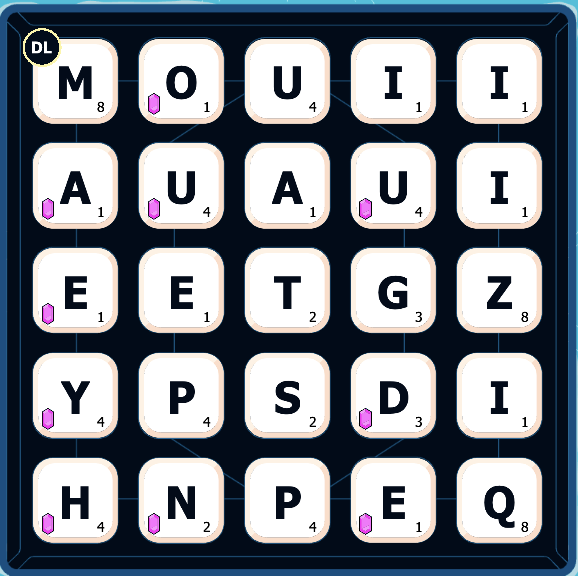A: (262, 161, 311, 212), (53, 157, 95, 211)
D: (374, 371, 411, 418)
DOUBLE: (478, 268, 517, 313)
F: (53, 267, 94, 318), (165, 270, 201, 315), (377, 481, 413, 525)
H: (371, 266, 413, 316)
I: (54, 475, 97, 530)
J: (479, 367, 518, 421), (374, 57, 411, 104), (483, 59, 518, 107), (484, 163, 515, 210)
N: (51, 58, 97, 104)
O: (163, 476, 200, 526)
P: (163, 61, 200, 103)
Q: (160, 369, 199, 419), (268, 474, 307, 524)
R: (476, 472, 521, 532)
T: (265, 369, 309, 419)
U: (262, 261, 309, 316)
V: (371, 162, 413, 210), (163, 161, 201, 210), (267, 54, 305, 101)
Z: (55, 366, 97, 421)
